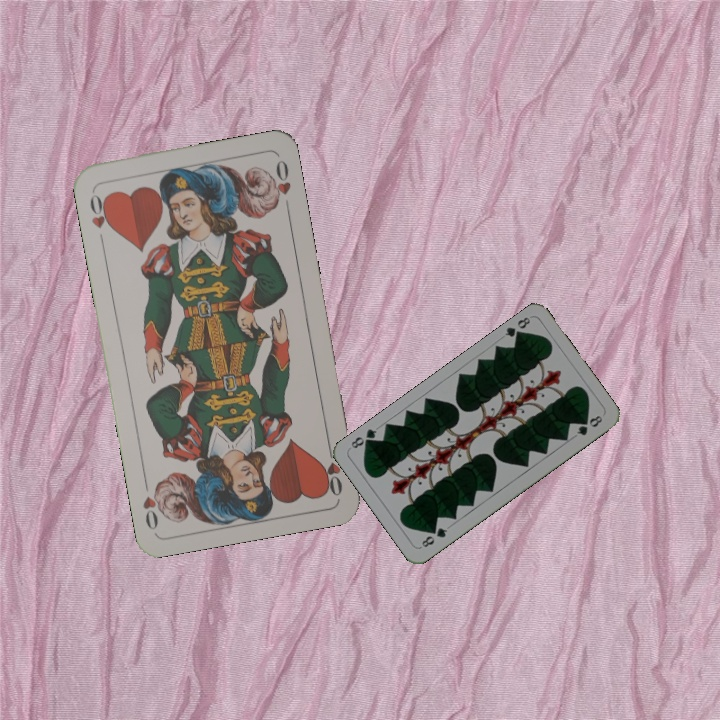G8: (501, 313, 533, 343), (417, 523, 450, 550)
HO: (85, 190, 115, 246), (318, 440, 345, 499)
